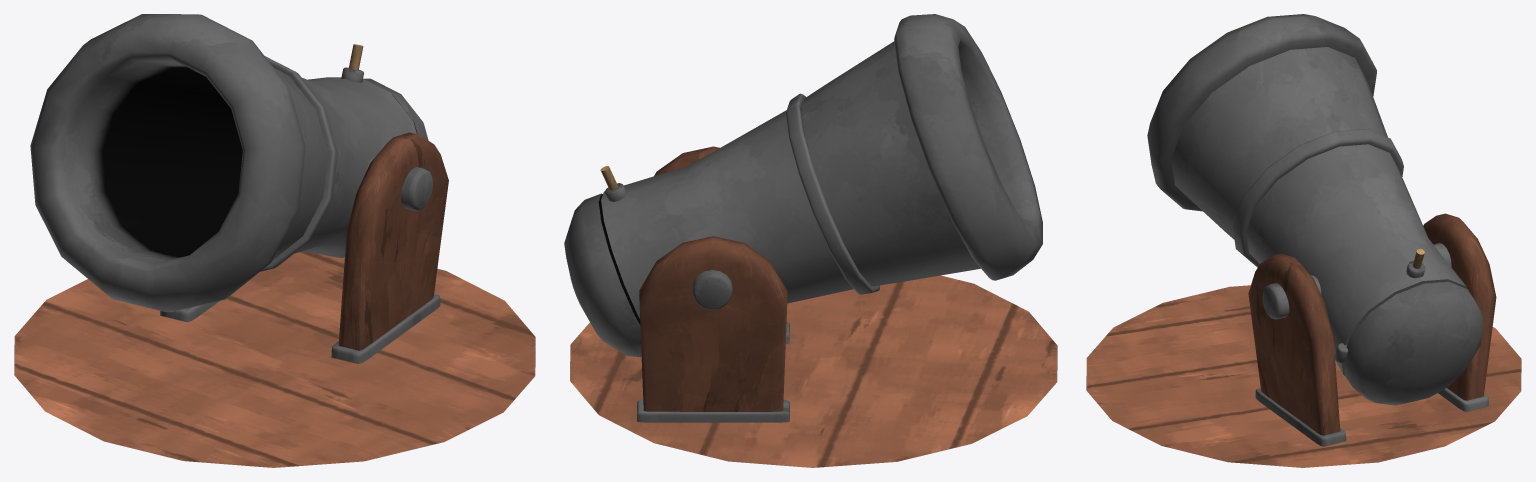
The model's file is Animatie tower.fbx.
The picture shows the model from 3 angles, left to right: view 1: azimuth 30°, elevation 25°; view 2: azimuth 150°, elevation 25°; view 3: azimuth 270°, elevation 25°; orthographic projection. The views are drawn at different scales.
Visible parts, largest first — view 1: Cannon Barrel.001, Cylinder.001, Cylinder.004, Cannon .001; view 2: Cannon Barrel.001, Cylinder.004, Cylinder.001, Cannon .001; view 3: Cannon Barrel.001, Cylinder.001, Cannon .001, Cylinder.004.
Boxes of the visible parts, left/top/right/bottom form: Cannon Barrel.001: left=30, top=14, right=432, bottom=312; Cylinder.001: left=45, top=300, right=535, bottom=467; Cylinder.004: left=14, top=251, right=504, bottom=411; Cannon .001: left=160, top=132, right=448, bottom=363; Cannon Barrel.001: left=564, top=14, right=1042, bottom=357; Cylinder.004: left=570, top=322, right=1027, bottom=467; Cylinder.001: left=785, top=275, right=1057, bottom=415; Cannon .001: left=637, top=146, right=789, bottom=422; Cannon Barrel.001: left=1147, top=14, right=1483, bottom=405; Cylinder.001: left=1086, top=285, right=1303, bottom=467; Cannon .001: left=1248, top=213, right=1496, bottom=446; Cylinder.004: left=1303, top=327, right=1521, bottom=467.
Size of the model in its own units: 615 by 479 by 607.
